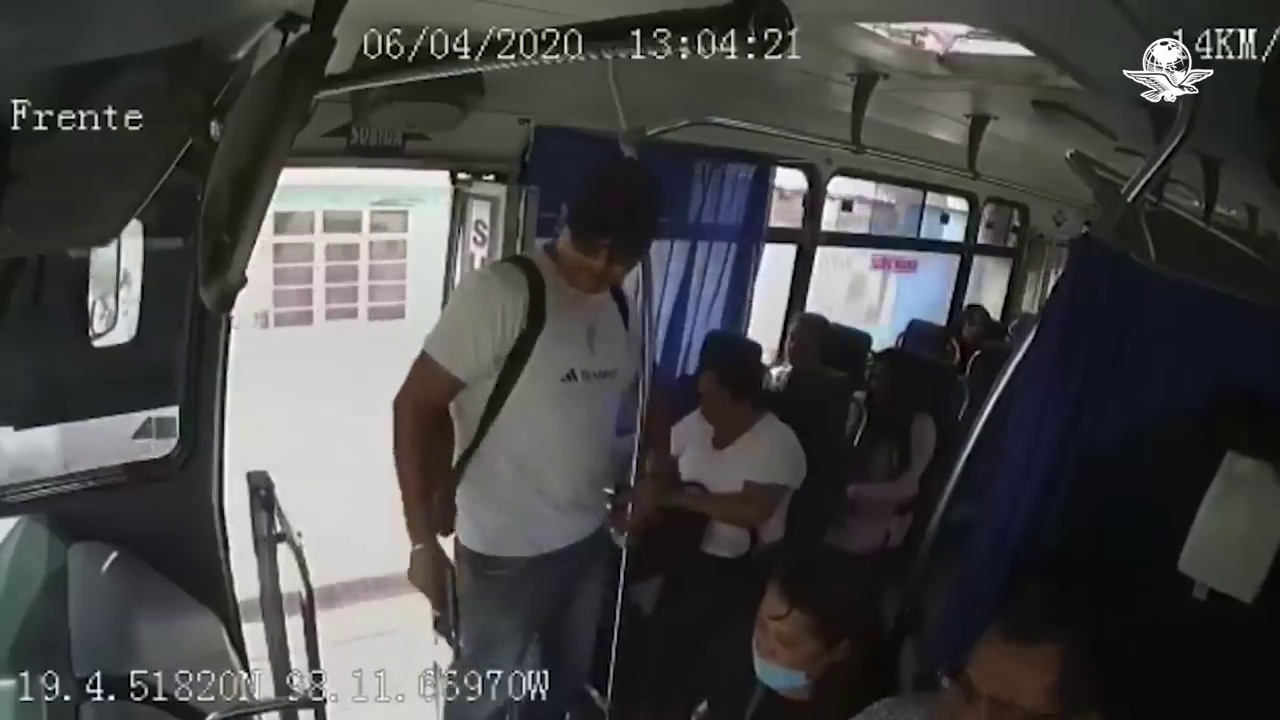pistol: (427, 558, 478, 667)
